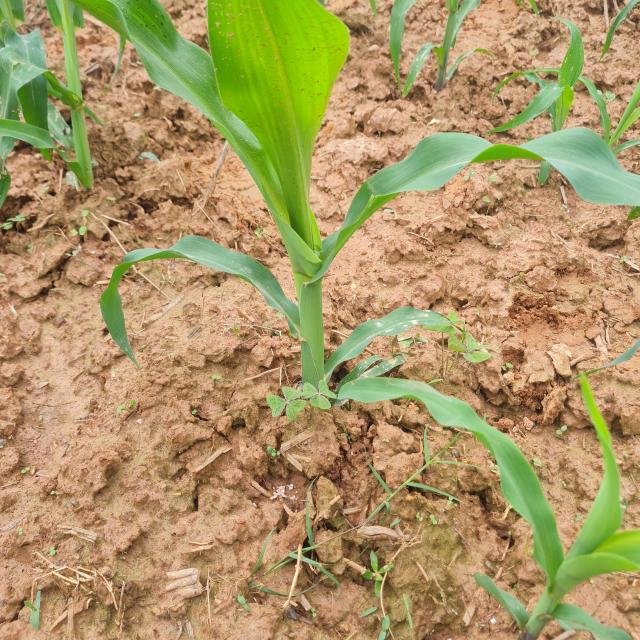maize: (24, 0, 468, 485)
weed: (236, 539, 335, 624), (352, 550, 426, 640), (264, 380, 338, 425), (441, 324, 494, 379)
